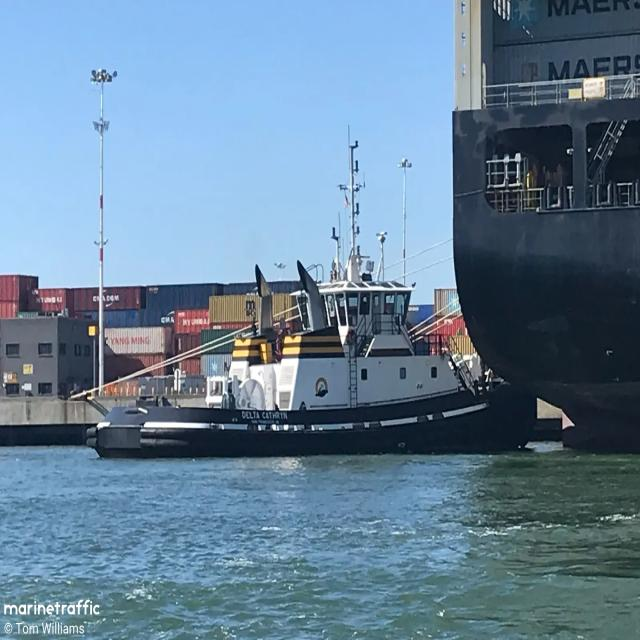Tug: (87, 126, 537, 458)
